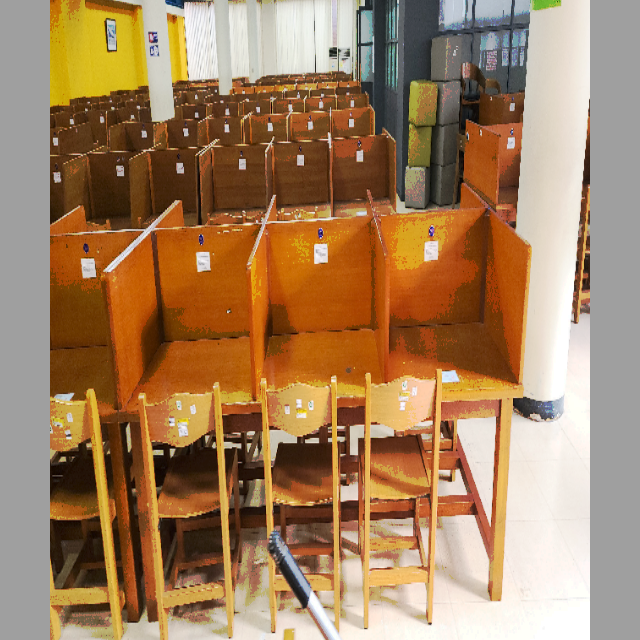empty: (112, 238, 254, 486), (397, 224, 525, 465), (260, 239, 389, 457)
